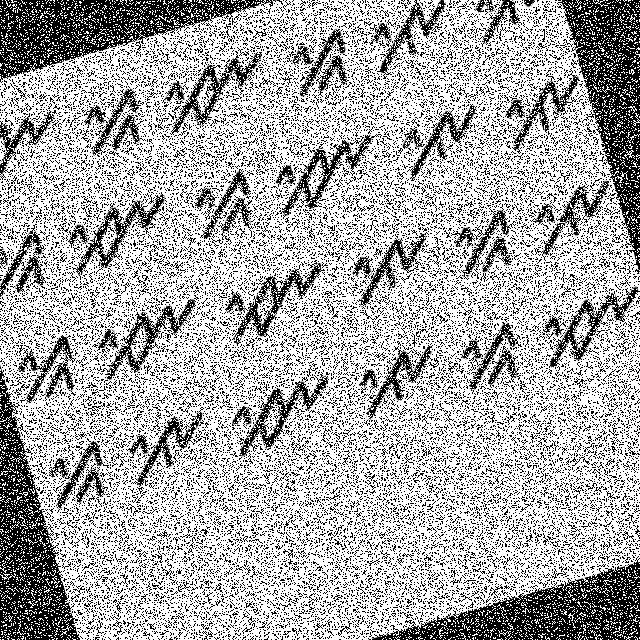i: (378, 89, 494, 186), (343, 330, 453, 430), (110, 396, 222, 490), (518, 162, 624, 258), (489, 61, 592, 153), (336, 222, 442, 310), (355, 0, 464, 78), (453, 0, 568, 57)
nggi: (446, 311, 532, 408), (70, 76, 158, 166), (34, 428, 118, 522), (436, 202, 526, 288), (5, 323, 90, 412), (180, 164, 263, 252), (280, 19, 362, 105), (0, 217, 60, 314)
nji: (74, 268, 215, 391), (207, 352, 351, 467), (144, 36, 285, 150), (254, 120, 392, 230), (208, 246, 342, 352), (520, 268, 639, 379), (50, 186, 182, 284), (0, 95, 75, 208)
